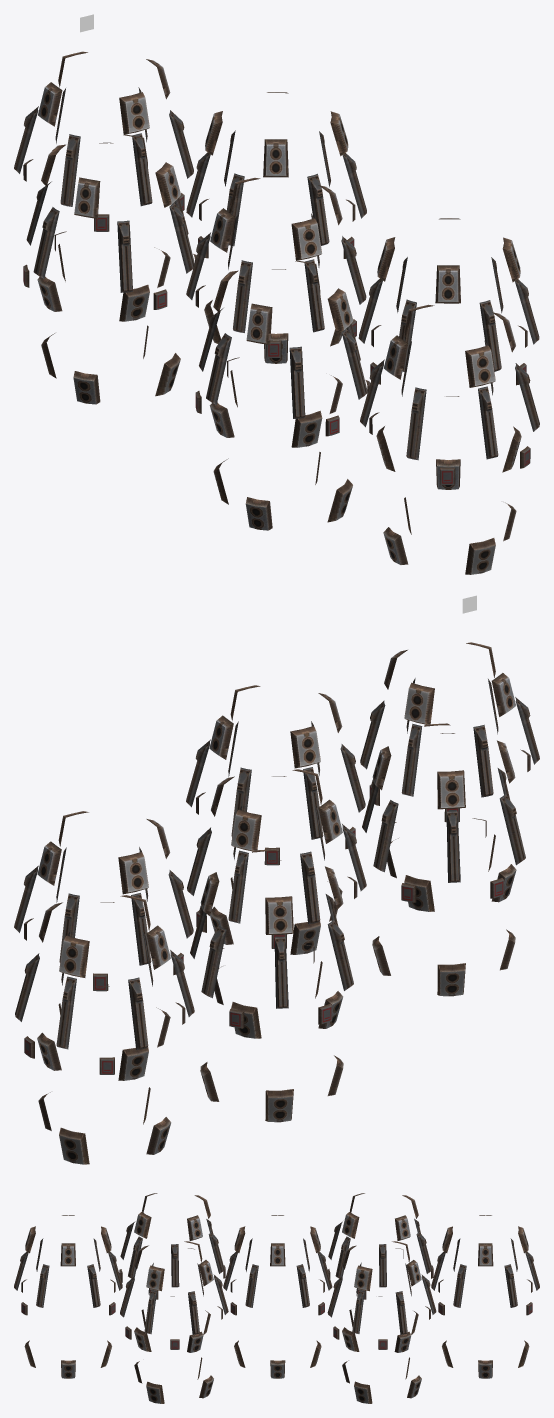
The model's file is prop_static_yao_container_01_01.glb.
3 renders of one model, top to bottom at view 1: azimuth 30°, elevation 25°; view 2: azimuth 150°, elevation 25°; view 3: azimuth 270°, elevation 25°, orthographic. The views are drawn at different scales.
Visible parts, largest first — view 1: yao_container_01_01_LOD0; view 2: yao_container_01_01_LOD0; view 3: yao_container_01_01_LOD0.
Part boxes in pixels (box(x1,y1,x2,y2)): yao_container_01_01_LOD0: box(14, 51, 539, 574); yao_container_01_01_LOD0: box(14, 642, 539, 1164); yao_container_01_01_LOD0: box(14, 1193, 539, 1403).
Size of what is drawn, in the model's own units: 4.29 by 3.92 by 10.08.
Materials: 3 (1 with a texture image).
